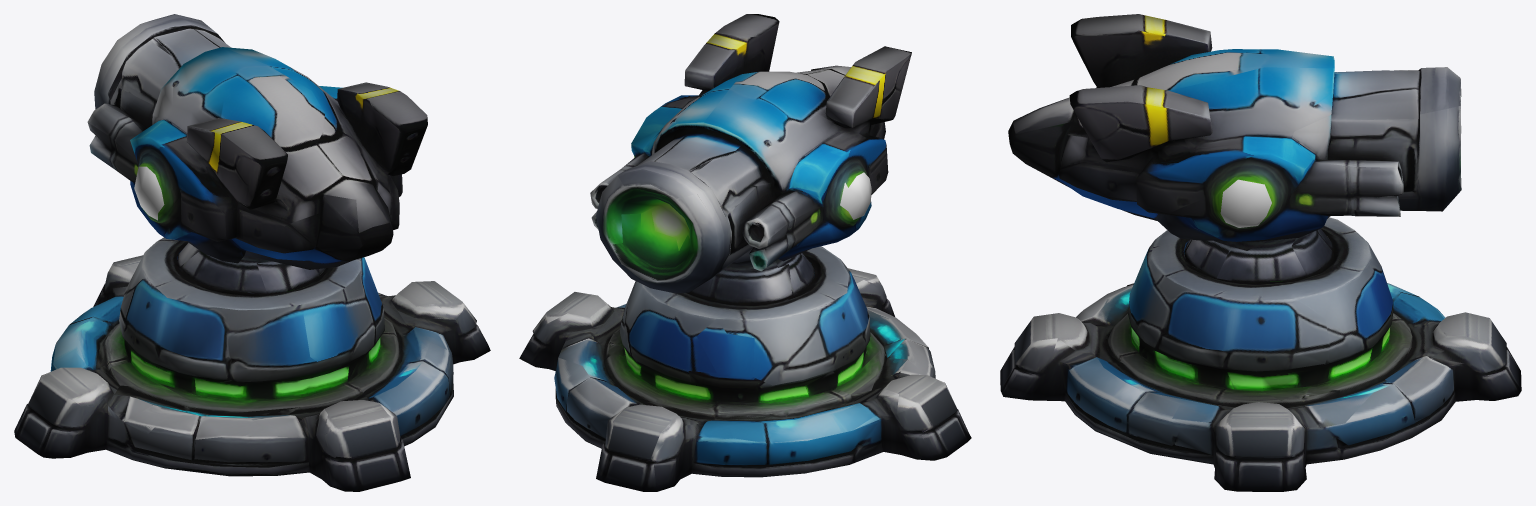
The model's file is PulseBot.fbx.
3 renders of one model, left to right at view 1: azimuth 30°, elevation 25°; view 2: azimuth 150°, elevation 25°; view 3: azimuth 270°, elevation 25°, orthographic. The views are drawn at different scales.
Parts seen in each view (by area): view 1: PulseBot.001, PulseBot.002; view 2: PulseBot.001, PulseBot.002; view 3: PulseBot.001, PulseBot.002.
Part boxes in pixels (<box>): PulseBot.001: <box>14,237,490,491</box>; PulseBot.002: <box>87,14,427,294</box>; PulseBot.001: <box>519,246,971,491</box>; PulseBot.002: <box>590,14,911,303</box>; PulseBot.001: <box>1000,217,1521,491</box>; PulseBot.002: <box>1008,14,1461,282</box>.
Bounding box in the file's own units: 2 × 2 × 1.37.
2 materials, 1 textured.
